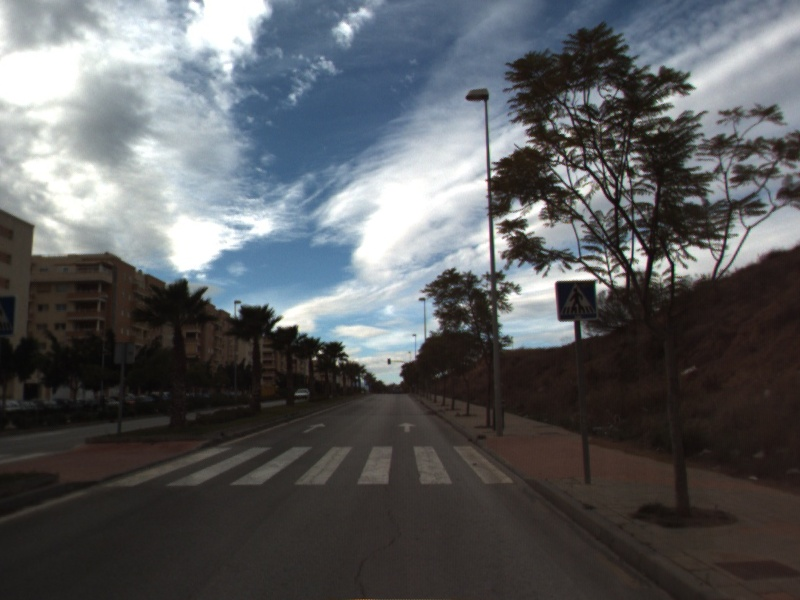STRAIGHT: (301, 421, 327, 435), (396, 420, 418, 434)
